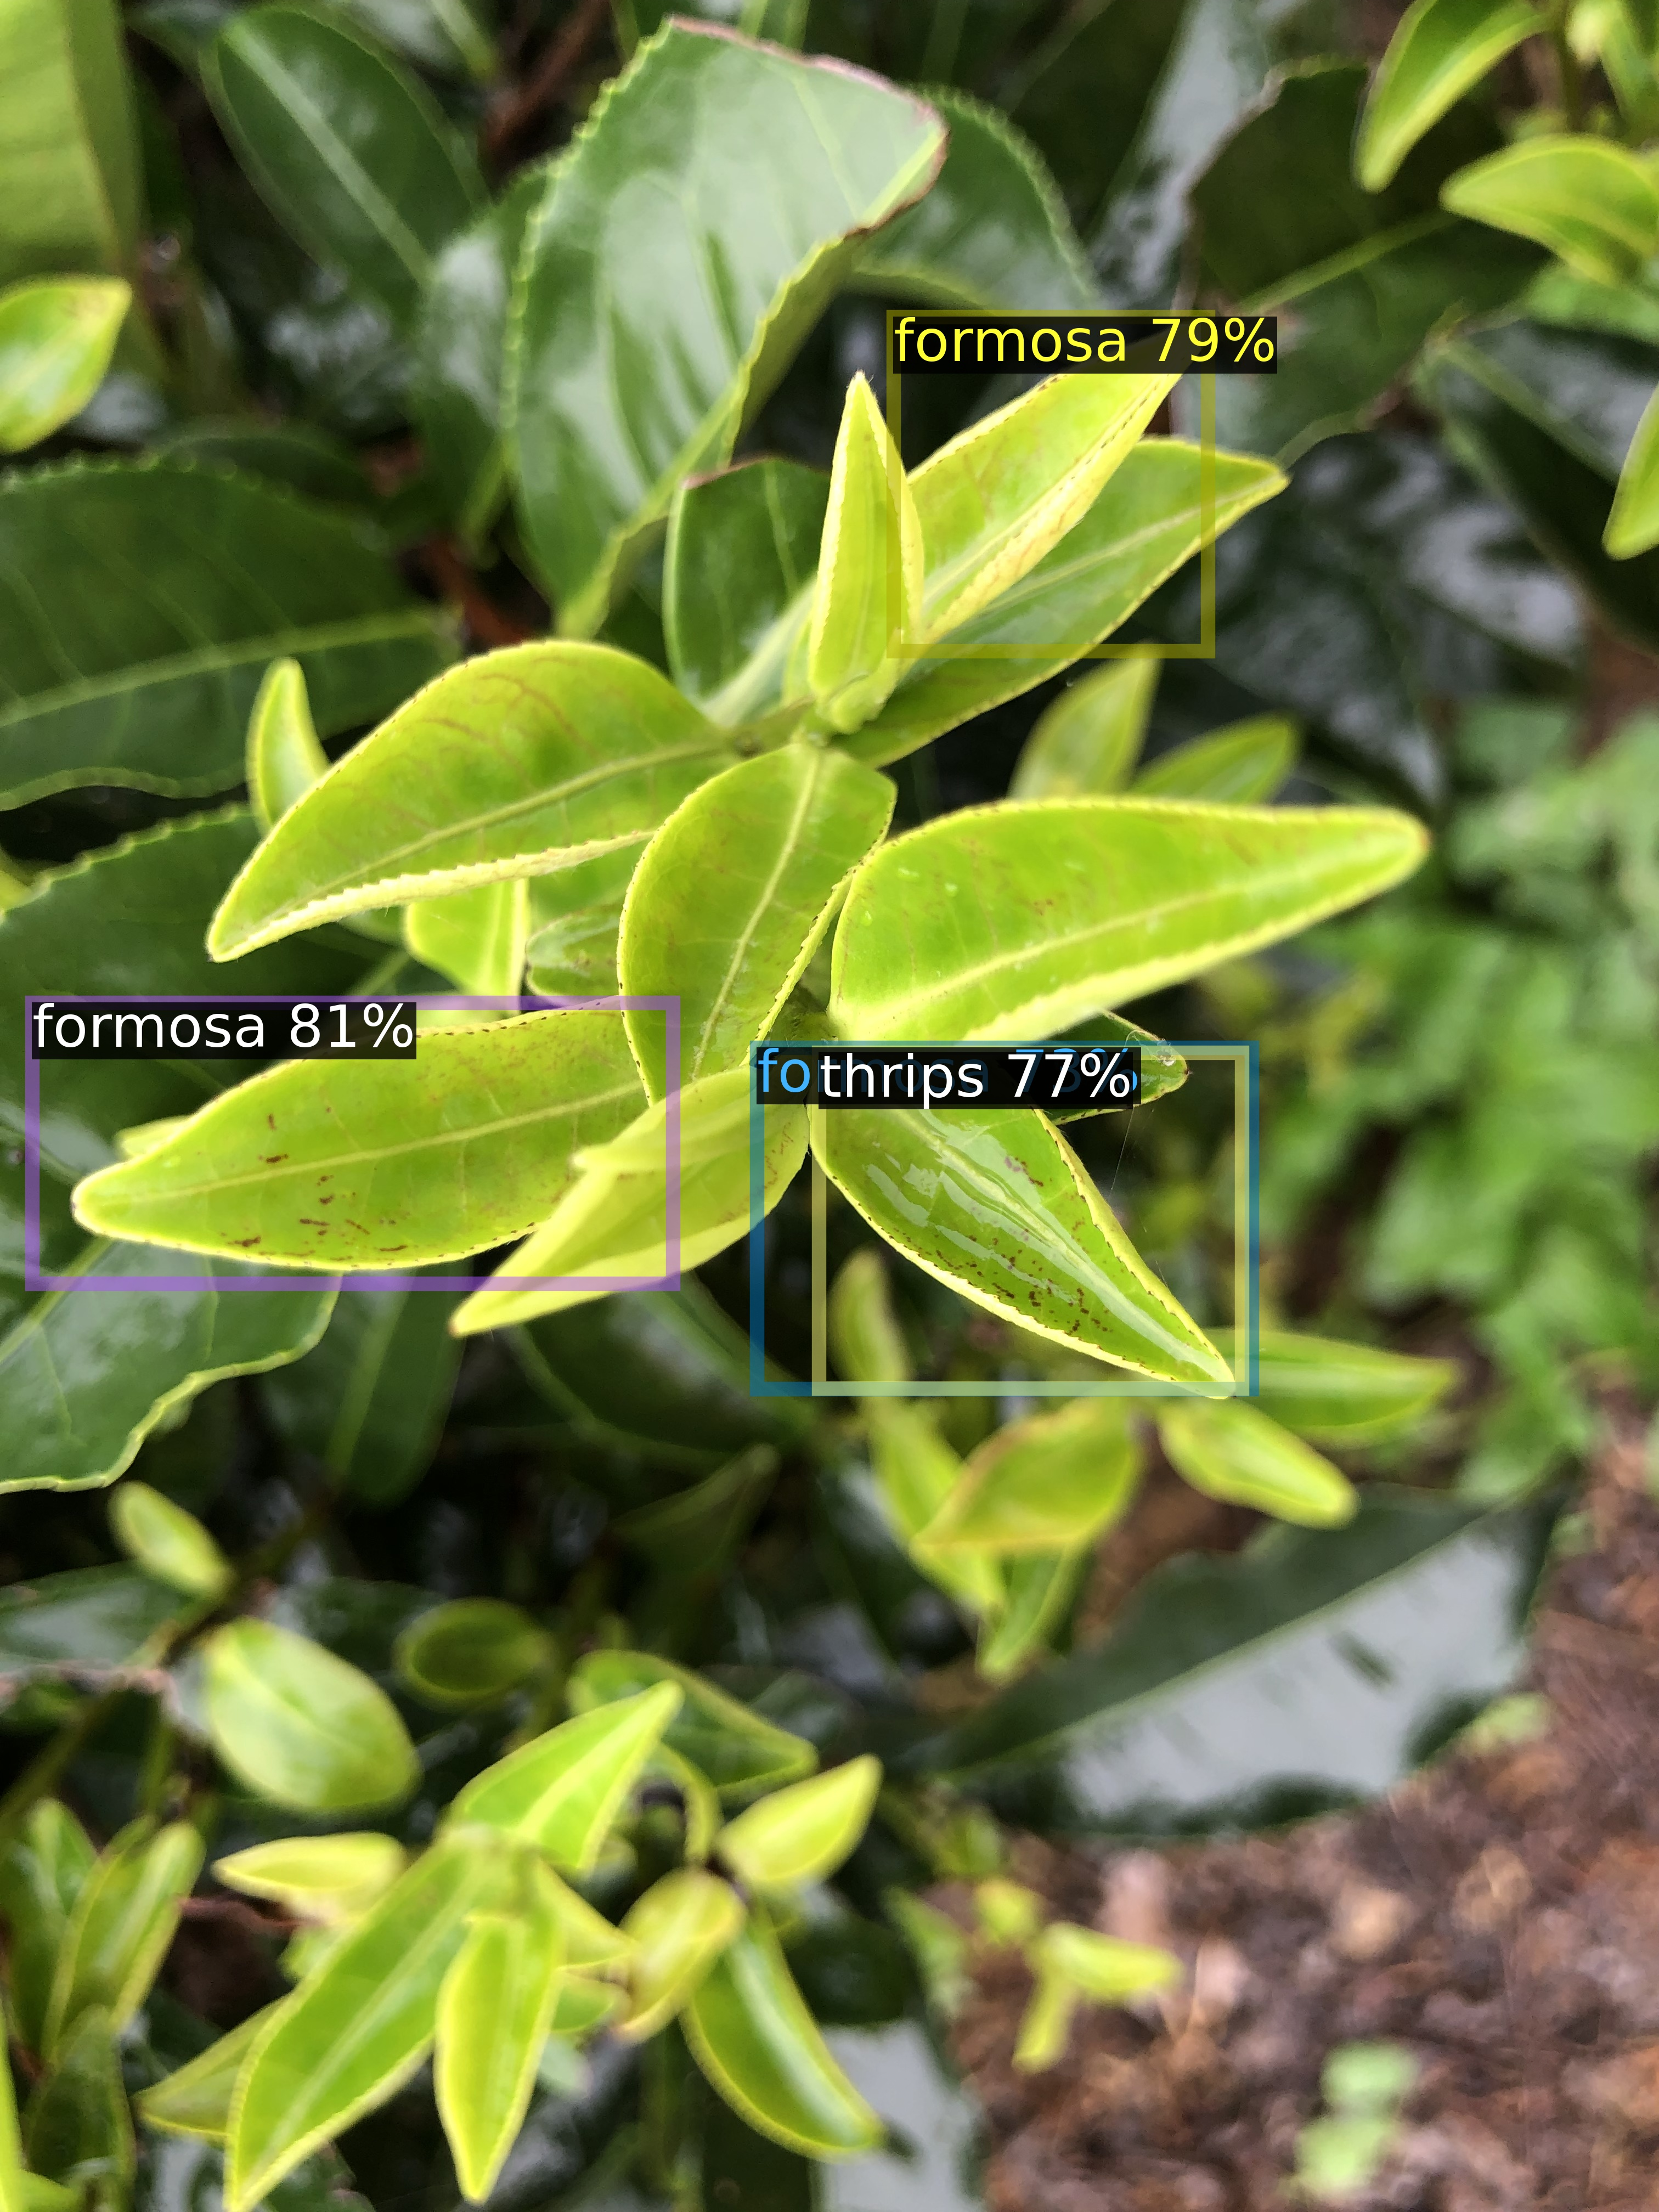formosa: (33, 1003, 673, 1284), (756, 1047, 1251, 1388), (894, 317, 1208, 651)
thrips: (819, 1052, 1243, 1388)
